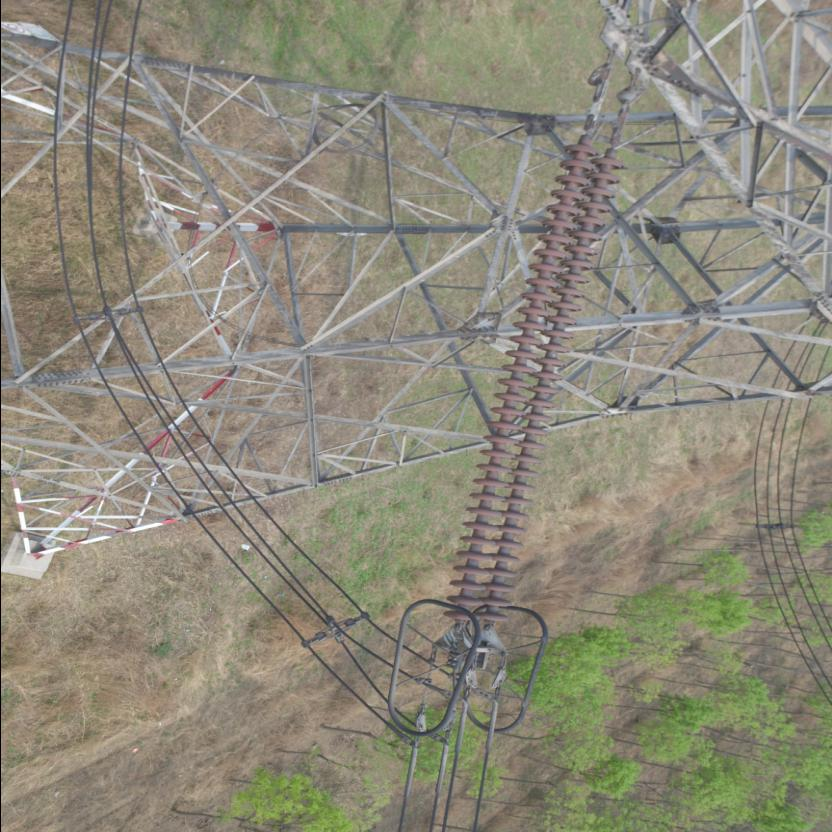insulator: (438, 101, 626, 638)
